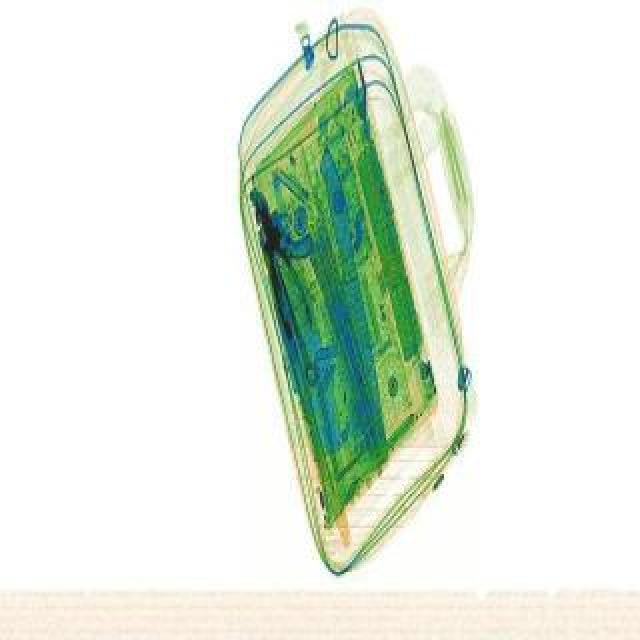gun: (244, 174, 314, 262)
knife: (316, 148, 394, 442)
wrench: (238, 182, 322, 338)
